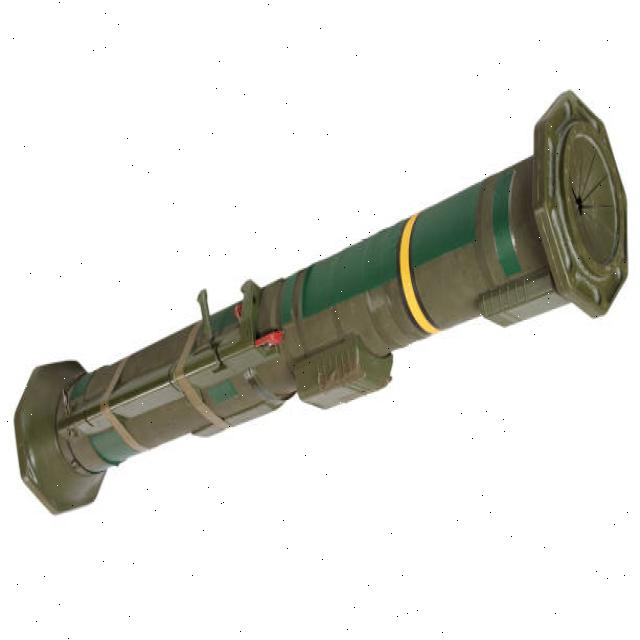bazooka: (9, 89, 635, 529)
